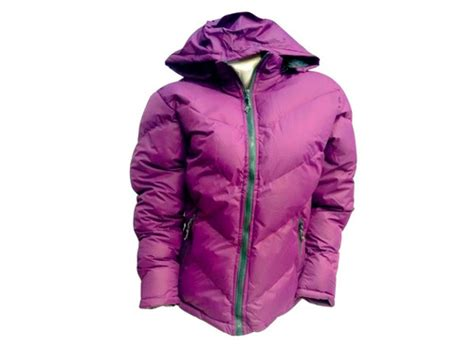nylon: (131, 12, 357, 337)
